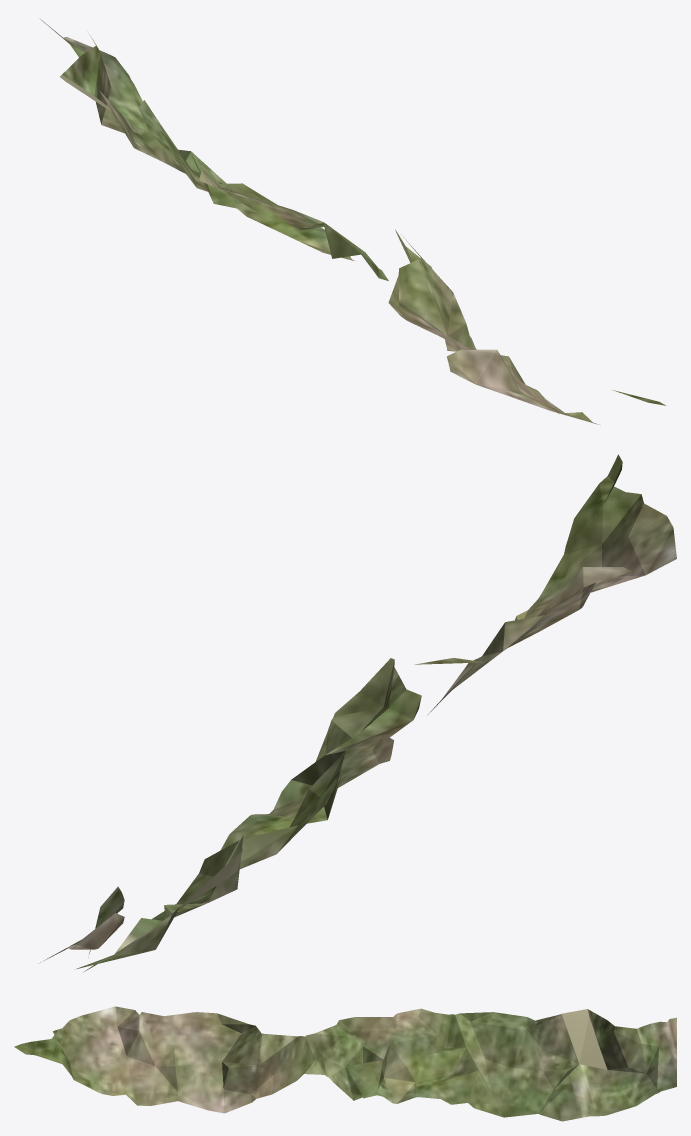
3 renders of one model, top to bottom at view 1: azimuth 30°, elevation 25°; view 2: azimuth 150°, elevation 25°; view 3: azimuth 270°, elevation 25°, orthographic. The views are drawn at different scales.
Size of the model in its own units: 0.7157 by 0.6163 by 4.96.
1 material, 1 textured.
